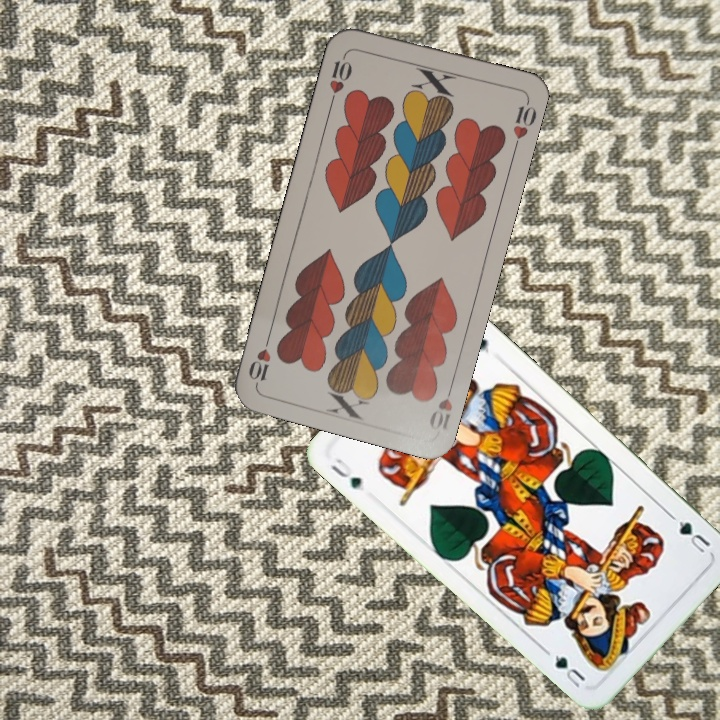GU: (666, 510, 713, 558), (326, 453, 365, 492)
H10: (425, 377, 457, 433), (325, 48, 355, 106)
